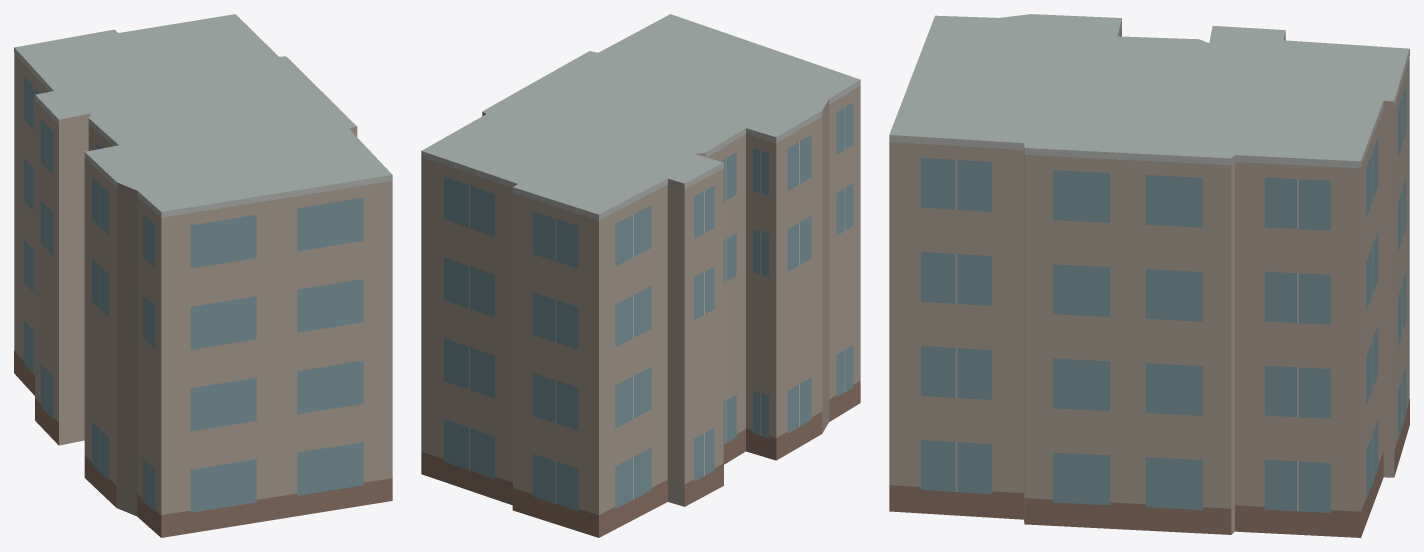
The model's file is survey-upis-32549138.glb.
3 views of the same model, side by side, from view 1: azimuth 30°, elevation 25°; view 2: azimuth 150°, elevation 25°; view 3: azimuth 270°, elevation 25° (orthographic). The views are drawn at different scales.
Visible parts, largest first — view 1: survey-upis-32549138.tmp; view 2: survey-upis-32549138.tmp; view 3: survey-upis-32549138.tmp.
Part boxes in pixels (x1,y1,x2,y2): survey-upis-32549138.tmp: (14,14,392,537); survey-upis-32549138.tmp: (421,14,860,537); survey-upis-32549138.tmp: (889,14,1409,537).
Bounding box in the file's own units: 11.26 × 13.4 × 16.8.
